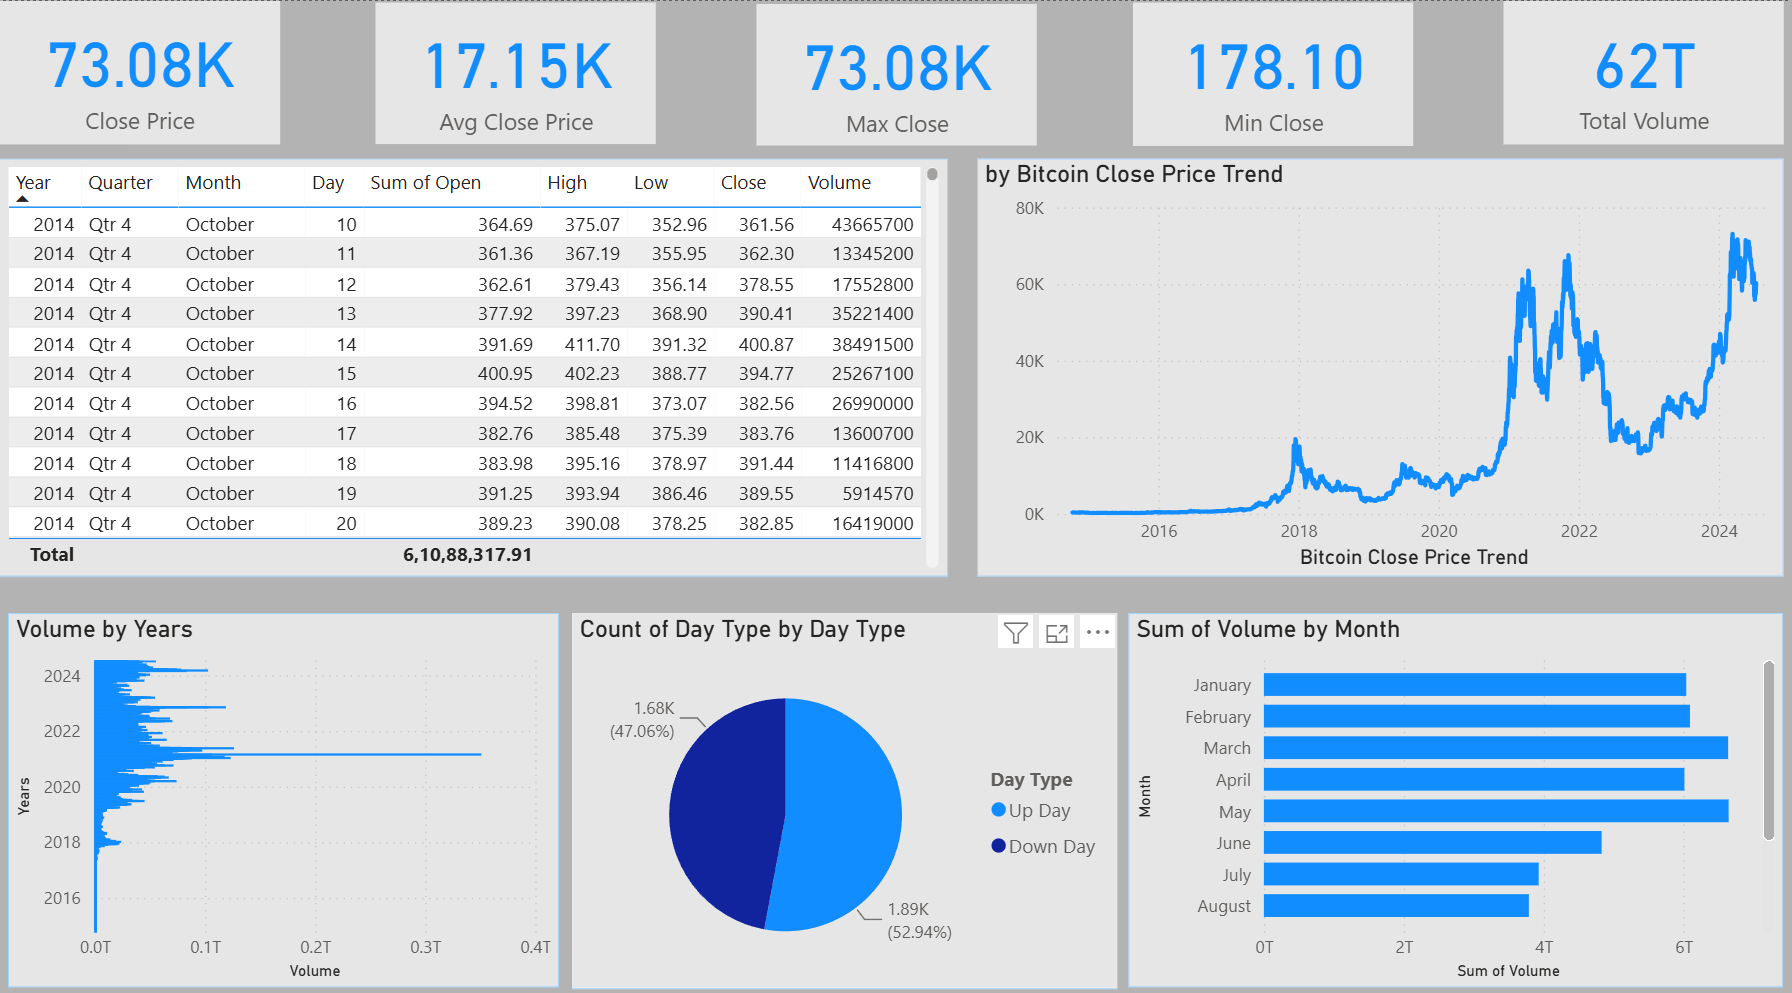

The page's visual inventory and layout, read from the dashboard file:
{"tool":"powerbi","page":{"name":"Page 1","canvas":[1280,720],"ordinal":0},"visuals":[{"type":"card","fields":{"Values":["Max(BTC-USD.Close)"]},"box":[0,0,197.4,100.5],"z":0},{"type":"card","fields":{"Values":["BTC-USD.Avg Close Price"]},"box":[264.2,1.2,197,99.7],"z":1},{"type":"card","fields":{"Values":["BTC-USD.Max Close"]},"box":[531.9,2.3,197,99.7],"z":2},{"type":"card","fields":{"Values":["BTC-USD.Min Close"]},"box":[796,1.2,197,100.8],"z":3},{"type":"card","fields":{"Values":["BTC-USD.Total Volume"]},"box":[1055.6,0,197,100.8],"z":4},{"type":"lineChart","fields":{"Y":["Avg(BTC-USD.Close)"],"Category":["BTC-USD.Date"]},"box":[712.6,129.8,540,263],"z":5},{"type":"barChart","fields":{"Category":["BTC-USD.Date"],"Y":["Sum(BTC-USD.Volume)"]},"box":[0,442.6,613,263],"z":6},{"type":"barChart","fields":{"Category":["BTC-USD.Date.Variation.Date Hierarchy.Month"],"Y":["Sum(BTC-USD.Volume)"]},"box":[712.6,442.6,531.9,263],"z":7},{"type":"tableEx","fields":{"Values":["BTC-USD.Date.Variation.Date Hierarchy.Year","BTC-USD.Date.Variation.Date Hierarchy.Quarter","BTC-USD.Date.Variation.Date Hierarchy.Month","BTC-USD.Date.Variation.Date Hierarchy.Day","Sum(BTC-USD.Open)","BTC-USD.High","BTC-USD.Low","BTC-USD.Close","BTC-USD.Volume"]},"box":[0,129.8,670.9,263],"z":8}]}

Visuals, with their boxes in screenshot pixels (x1, y1, x2, y2), scaled from the page's 1280x720 canvas onto the 1792x993 screenshot:
card - Max(BTC-USD.Close): pyautogui.locateOnScreen(0, 0, 276, 139)
card - BTC-USD.Avg Close Price: pyautogui.locateOnScreen(370, 2, 646, 139)
card - BTC-USD.Max Close: pyautogui.locateOnScreen(745, 3, 1020, 141)
card - BTC-USD.Min Close: pyautogui.locateOnScreen(1114, 2, 1390, 141)
card - BTC-USD.Total Volume: pyautogui.locateOnScreen(1478, 0, 1754, 139)
lineChart - Avg(BTC-USD.Close) x BTC-USD.Date: pyautogui.locateOnScreen(998, 179, 1754, 542)
barChart - BTC-USD.Date x Sum(BTC-USD.Volume): pyautogui.locateOnScreen(0, 610, 858, 973)
barChart - BTC-USD.Date.Variation.Date Hierarchy.Month x Sum(BTC-USD.Volume): pyautogui.locateOnScreen(998, 610, 1742, 973)
tableEx - BTC-USD.Date.Variation.Date Hierarchy.Year x BTC-USD.Date.Variation.Date Hierarchy.Quarter: pyautogui.locateOnScreen(0, 179, 939, 542)
